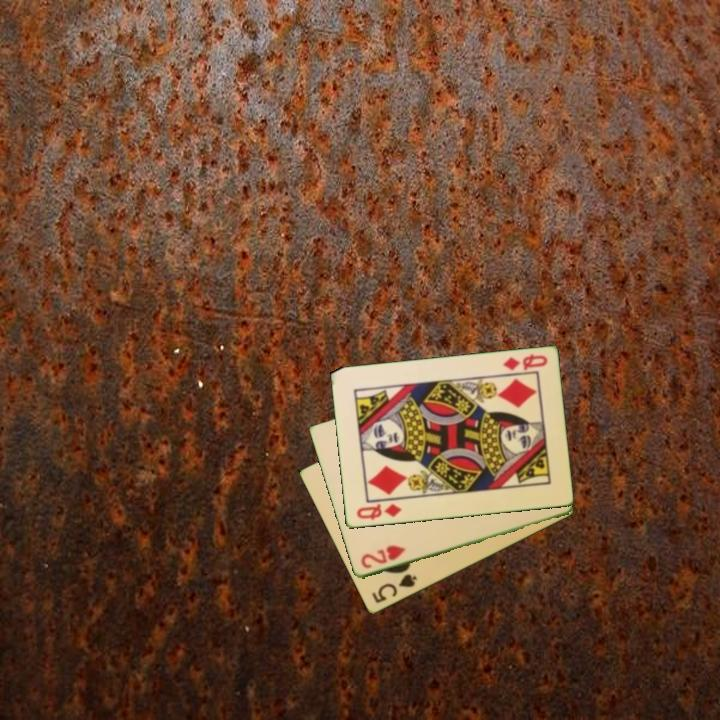2h: (357, 542, 409, 572)
5s: (368, 570, 420, 606)
Qd: (353, 500, 404, 523), (499, 351, 550, 373)
